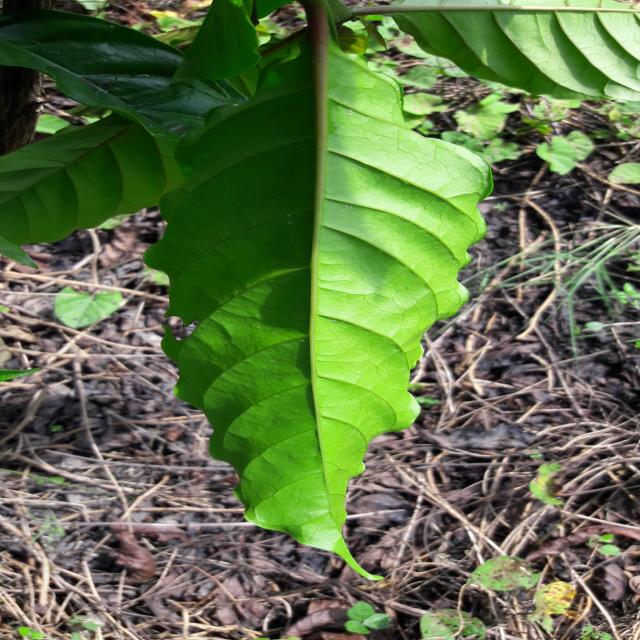Sanas: (143, 39, 493, 572)
